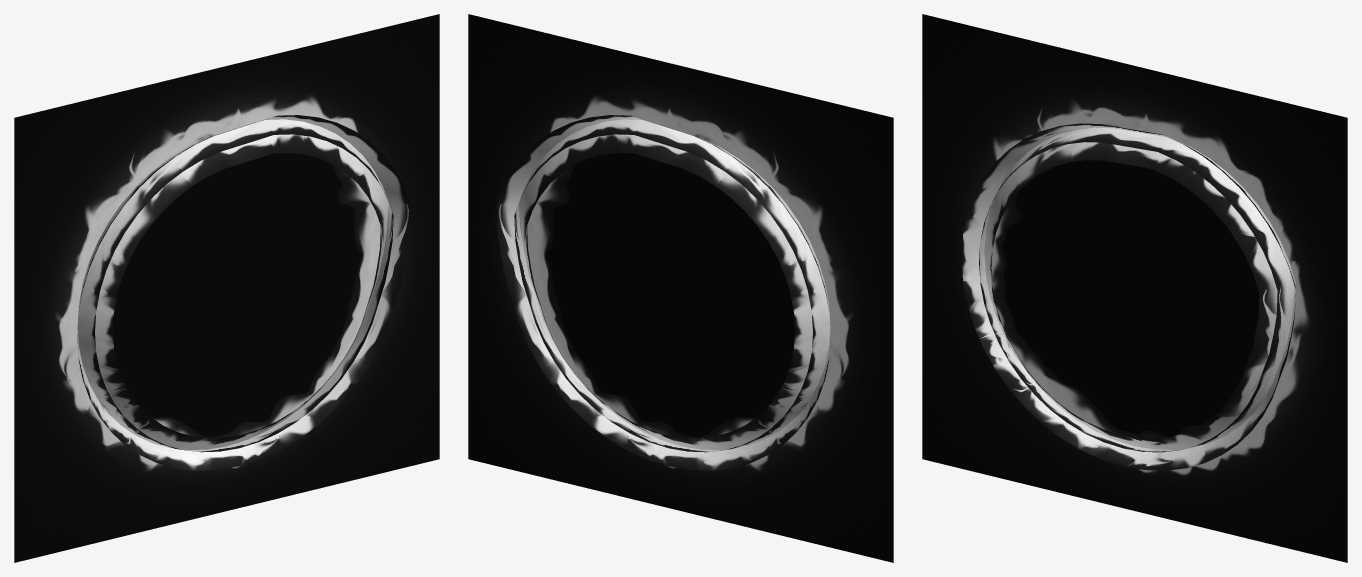
File: PratubMesh.fbx
3 renders of one model, left to right at view 1: azimuth 30°, elevation 25°; view 2: azimuth 150°, elevation 25°; view 3: azimuth 330°, elevation 25°, orthographic.
Parts seen in each view (by area): view 1: Plane; view 2: Plane; view 3: Plane.
Part boxes in pixels (x1,y1,x2,y2): Plane: (14, 14, 439, 562); Plane: (468, 14, 893, 562); Plane: (922, 14, 1347, 562).
Bounding box in the file's own units: 200 × 200 × 24.03.
1 material, 1 textured.
